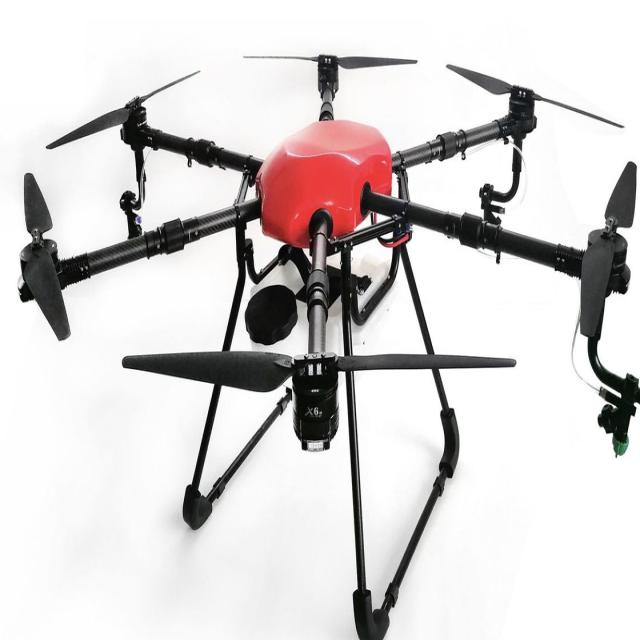drone: (0, 26, 640, 572)
